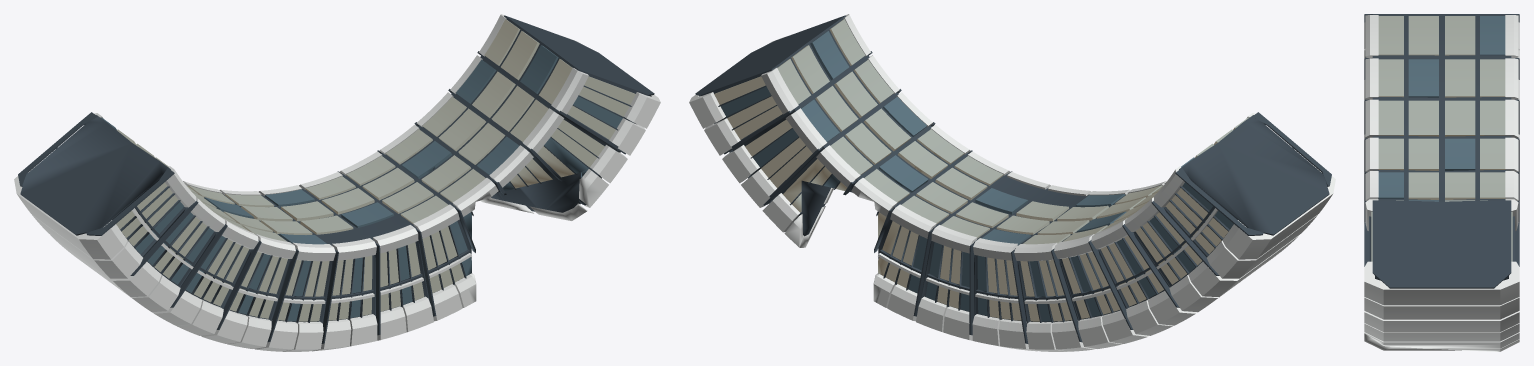
The model's file is ring-lower-2127.glb.
3 views of the same model, side by side, from view 1: azimuth 30°, elevation 25°; view 2: azimuth 150°, elevation 25°; view 3: azimuth 270°, elevation 25° (orthographic). The views are drawn at different scales.
Visible parts, largest first — view 1: lower_glazing, lower_graphite, lower_ceramic, lower_shadow_glazing; view 2: lower_glazing, lower_graphite, lower_ceramic, lower_shadow_glazing; view 3: lower_graphite, lower_glazing, lower_ceramic, lower_shadow_glazing.
Boxes of the visible parts, box(x1,y1,x2,y2) form: lower_glazing: box(116, 19, 635, 321); lower_graphite: box(18, 15, 654, 343); lower_ceramic: box(14, 14, 660, 351); lower_shadow_glazing: box(101, 45, 622, 321); lower_glazing: box(714, 19, 1248, 321); lower_graphite: box(695, 15, 1331, 343); lower_ceramic: box(689, 14, 1335, 351); lower_shadow_glazing: box(720, 31, 1233, 321); lower_graphite: box(1364, 14, 1519, 288); lower_glazing: box(1371, 16, 1512, 261); lower_ceramic: box(1364, 15, 1519, 351); lower_shadow_glazing: box(1378, 16, 1505, 201).
Bounding box in the file's own units: 181 × 68.09 × 45.
